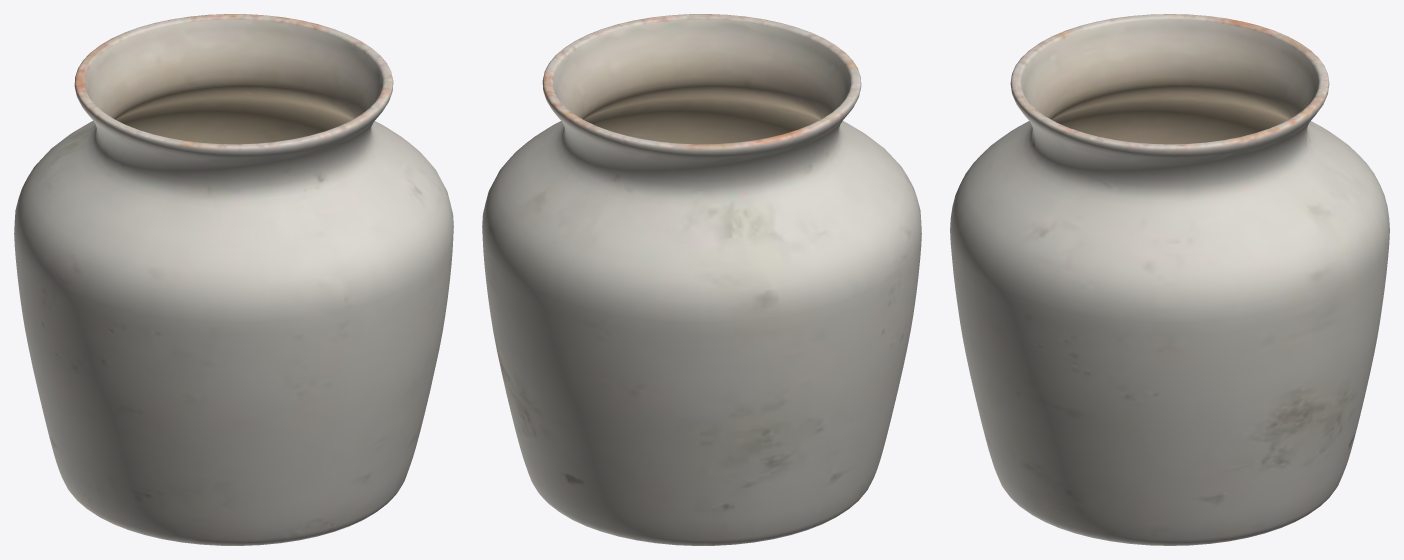
File: ph-ceramic-vase-02.glb
3 views of the same model, side by side, from view 1: azimuth 30°, elevation 25°; view 2: azimuth 150°, elevation 25°; view 3: azimuth 270°, elevation 25° (orthographic).
Visible parts, largest first — view 1: ceramic_vase_02; view 2: ceramic_vase_02; view 3: ceramic_vase_02.
Part boxes in pixels (x1,y1,x2,y2): ceramic_vase_02: (14,14,453,545); ceramic_vase_02: (482,14,921,545); ceramic_vase_02: (950,14,1389,545).
Size of the model in its own units: 1 by 1 by 1.
Materials: 1 (1 with a texture image).
